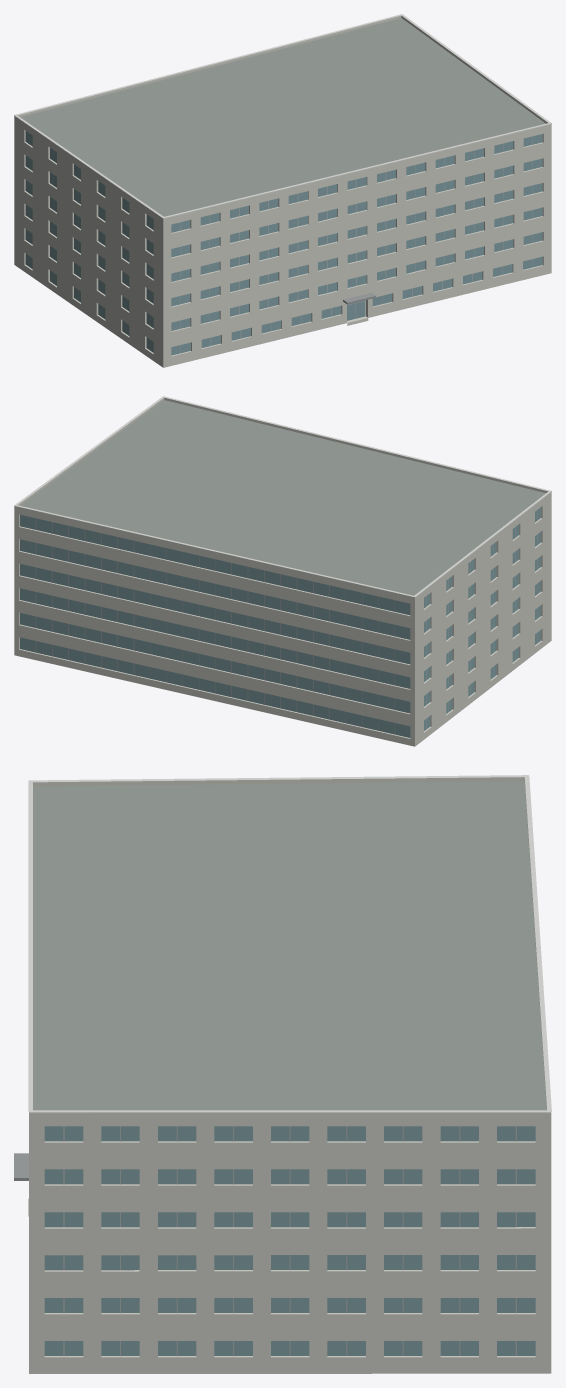
3 renders of one model, top to bottom at view 1: azimuth 30°, elevation 25°; view 2: azimuth 150°, elevation 25°; view 3: azimuth 270°, elevation 25°, orthographic. The views are drawn at different scales.
Parts seen in each view (by area): view 1: researchHall__wall, researchHall__roof, researchHall__glass, researchHall__trim, researchHall__parapet, researchHall__frame; view 2: researchHall__roof, researchHall__wall, researchHall__glass, researchHall__trim, researchHall__parapet, researchHall__frame; view 3: researchHall__roof, researchHall__wall, researchHall__glass, researchHall__trim, researchHall__parapet, researchHall__frame.
Part boxes in pixels (<box>): researchHall__wall: <box>14,118,551,367</box>; researchHall__roof: <box>16,18,550,367</box>; researchHall__glass: <box>25,131,542,355</box>; researchHall__trim: <box>14,14,551,218</box>; researchHall__parapet: <box>14,15,551,220</box>; researchHall__frame: <box>29,134,532,352</box>; researchHall__roof: <box>15,400,545,745</box>; researchHall__wall: <box>14,493,551,746</box>; researchHall__glass: <box>20,507,540,737</box>; researchHall__trim: <box>14,396,551,597</box>; researchHall__parapet: <box>14,397,551,599</box>; researchHall__frame: <box>35,510,537,734</box>; researchHall__roof: <box>29,781,546,1373</box>; researchHall__wall: <box>29,1116,551,1373</box>; researchHall__glass: <box>44,1126,535,1355</box>; researchHall__trim: <box>28,775,551,1113</box>; researchHall__parapet: <box>29,777,551,1115</box>; researchHall__frame: <box>63,1126,516,1356</box>.
Size of the model in its own units: 60.66 by 22.35 by 40.9.
